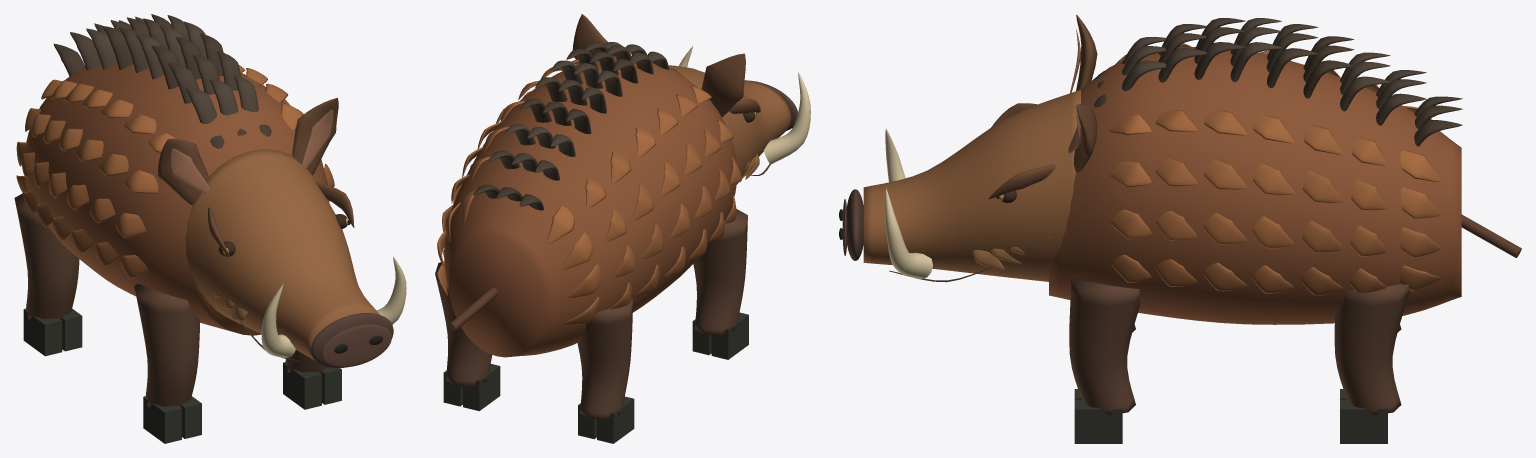
File: bristleback.glb
3 renders of one model, left to right at view 1: azimuth 30°, elevation 25°; view 2: azimuth 150°, elevation 25°; view 3: azimuth 270°, elevation 25°, orthographic. The views are drawn at different scales.
Parts seen in each view (by area): view 1: _MeshInstance3D_211, _MeshInstance3D_283, _MeshInstance3D_216, _MeshInstance3D_212, _MeshInstance3D_285, _MeshInstance3D_295, _MeshInstance3D_309, _MeshInstance3D_213, _MeshInstance3D_253, _MeshInstance3D_217, _MeshInstance3D_284, _MeshInstance3D_303 (+36 smaller); view 2: _MeshInstance3D_211, _MeshInstance3D_212, _MeshInstance3D_216, _MeshInstance3D_283, _MeshInstance3D_248, _MeshInstance3D_295, _MeshInstance3D_303, _MeshInstance3D_213, _MeshInstance3D_249, _MeshInstance3D_217, _MeshInstance3D_309, _MeshInstance3D_219 (+30 smaller); view 3: _MeshInstance3D_211, _MeshInstance3D_283, _MeshInstance3D_252, _MeshInstance3D_248, _MeshInstance3D_254, _MeshInstance3D_250, _MeshInstance3D_317, _MeshInstance3D_309, _MeshInstance3D_284, _MeshInstance3D_295, _MeshInstance3D_273, _MeshInstance3D_262 (+25 smaller).
Boxes of the visible parts, box(x1,y1,x2,y2) form: _MeshInstance3D_211: box(24, 63, 329, 335); _MeshInstance3D_283: box(185, 149, 379, 360); _MeshInstance3D_216: box(134, 283, 200, 407); _MeshInstance3D_212: box(14, 193, 79, 319); _MeshInstance3D_285: box(322, 324, 391, 367); _MeshInstance3D_295: box(157, 138, 208, 204); _MeshInstance3D_309: box(292, 98, 338, 175); _MeshInstance3D_213: box(23, 308, 62, 356); _MeshInstance3D_253: box(283, 362, 321, 409); _MeshInstance3D_217: box(143, 396, 181, 443); _MeshInstance3D_284: box(311, 313, 393, 367); _MeshInstance3D_303: box(261, 284, 295, 358); _MeshInstance3D_211: box(444, 56, 736, 357); _MeshInstance3D_212: box(577, 298, 633, 419); _MeshInstance3D_216: box(693, 207, 747, 335); _MeshInstance3D_283: box(668, 65, 791, 184); _MeshInstance3D_248: box(435, 262, 492, 386); _MeshInstance3D_295: box(701, 53, 745, 117); _MeshInstance3D_303: box(763, 72, 810, 164); _MeshInstance3D_213: box(597, 396, 634, 443); _MeshInstance3D_249: box(463, 364, 500, 411); _MeshInstance3D_217: box(711, 312, 748, 359); _MeshInstance3D_309: box(572, 14, 612, 59); _MeshInstance3D_219: box(547, 206, 574, 244); _MeshInstance3D_211: box(1049, 47, 1461, 324); _MeshInstance3D_283: box(863, 89, 1080, 281); _MeshInstance3D_252: box(1069, 278, 1140, 415); _MeshInstance3D_248: box(1334, 284, 1410, 415); _MeshInstance3D_254: box(1074, 400, 1122, 443); _MeshInstance3D_250: box(1340, 400, 1387, 443); _MeshInstance3D_317: box(885, 188, 932, 279); _MeshInstance3D_309: box(1074, 104, 1097, 172); _MeshInstance3D_284: box(846, 189, 863, 260); _MeshInstance3D_295: box(1076, 14, 1097, 90); _MeshInstance3D_273: box(1203, 213, 1247, 244); _MeshInstance3D_262: box(1400, 187, 1440, 218).
Size of the model in its own units: 0.9202 by 1.27 by 2.14.
